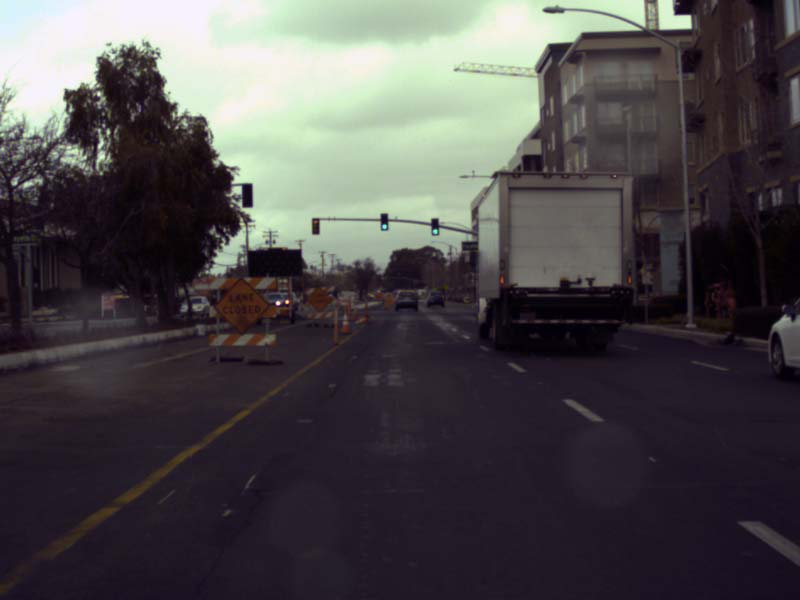Green: (623, 219, 634, 248), (431, 218, 439, 235), (381, 214, 387, 230), (487, 254, 492, 266)
Red: (312, 218, 318, 233)
